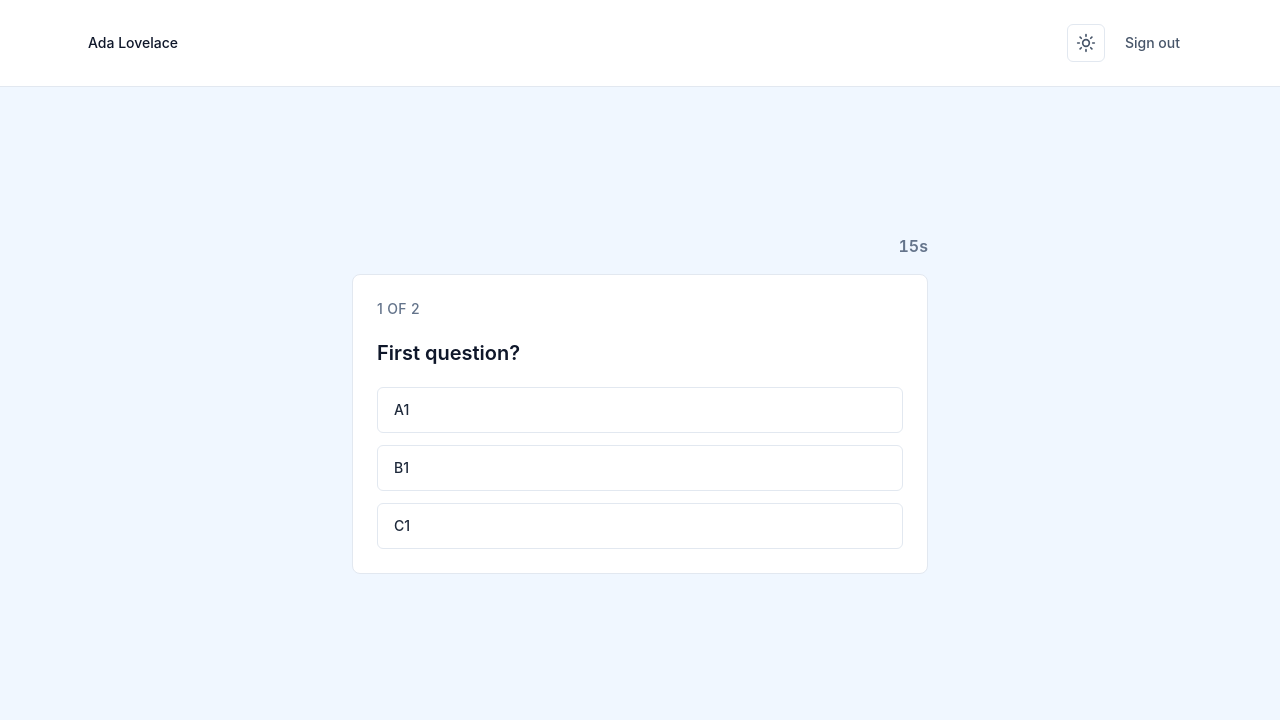
Scenario: QuizPlay › should_show_score_summary_when_submit_succeeds
The width and height of the screenshot is (1280, 720).
Click the button "A1" at [402, 409], box x1=377 y1=386 x2=903 y2=432
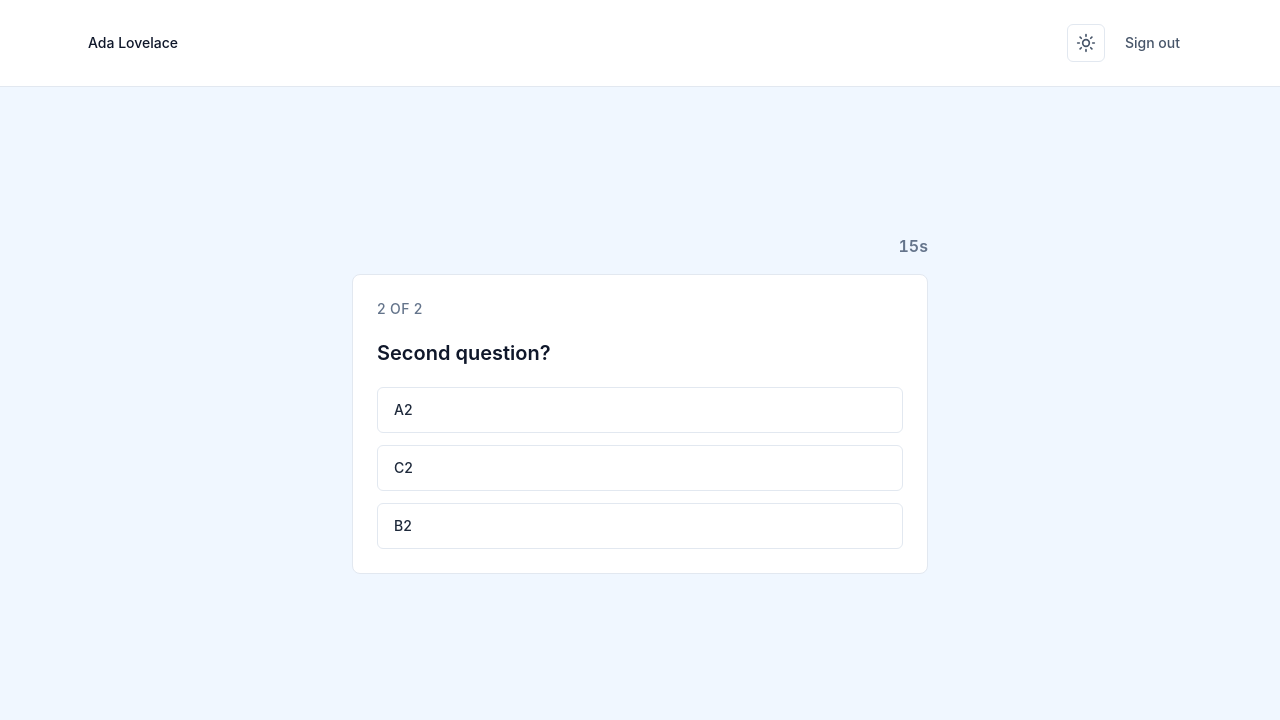
Click the button "A2" at [403, 409], box x1=377 y1=386 x2=903 y2=432
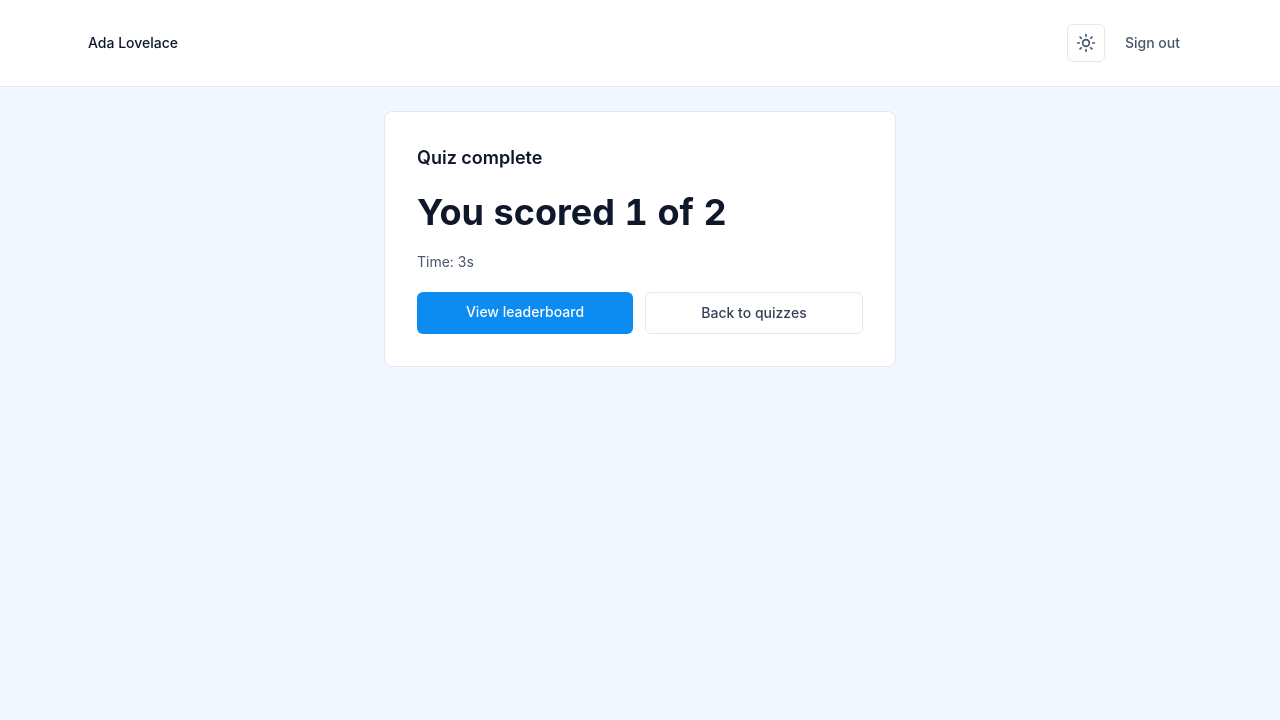
Expected: the text "You scored 1 of 2" is shown, x1=417 y1=190 x2=727 y2=234
Expected: the heading "Quiz complete" is shown, x1=417 y1=147 x2=542 y2=168
